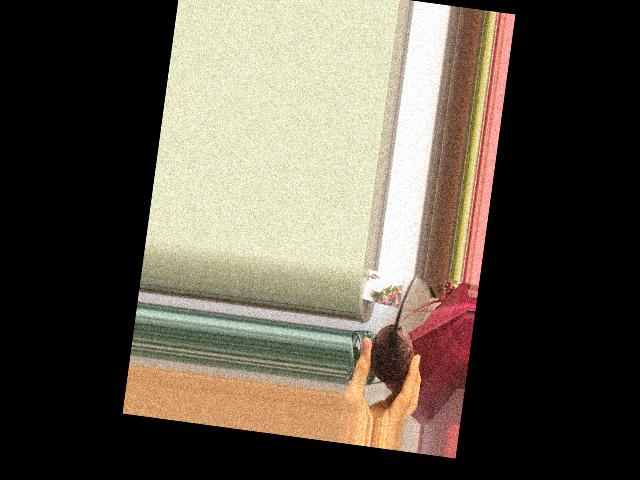beet: (366, 269, 424, 387)
